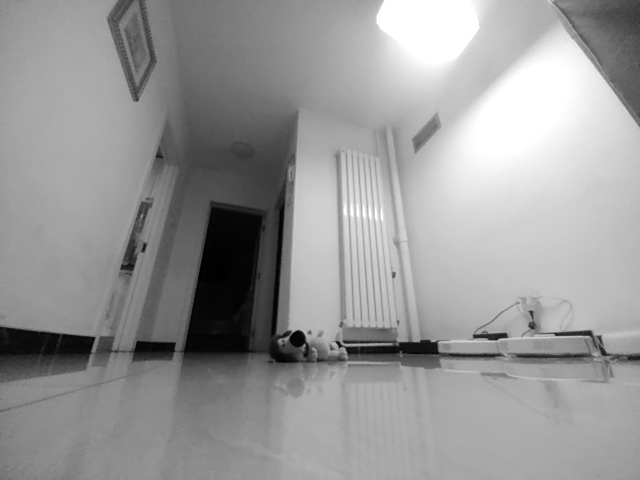toy: (269, 329, 350, 362)
